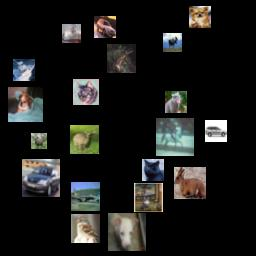airplane: (71, 182, 100, 211)
automobile: (22, 159, 60, 197), (94, 16, 116, 38), (205, 120, 227, 142)
bird: (71, 214, 100, 243)
cat: (134, 183, 163, 212), (73, 79, 99, 105), (165, 91, 187, 113), (142, 159, 164, 181)
deer: (174, 167, 206, 199), (70, 125, 99, 154), (163, 33, 182, 52), (31, 133, 47, 149)
dog: (108, 213, 146, 251), (8, 87, 43, 122), (189, 6, 211, 28)
frog: (107, 44, 136, 73)
ship: (13, 59, 35, 81), (62, 24, 81, 43)
